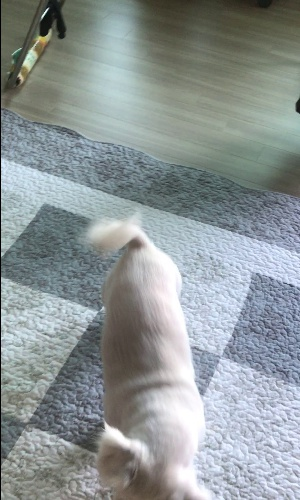ddubi: (78, 207, 217, 500)
